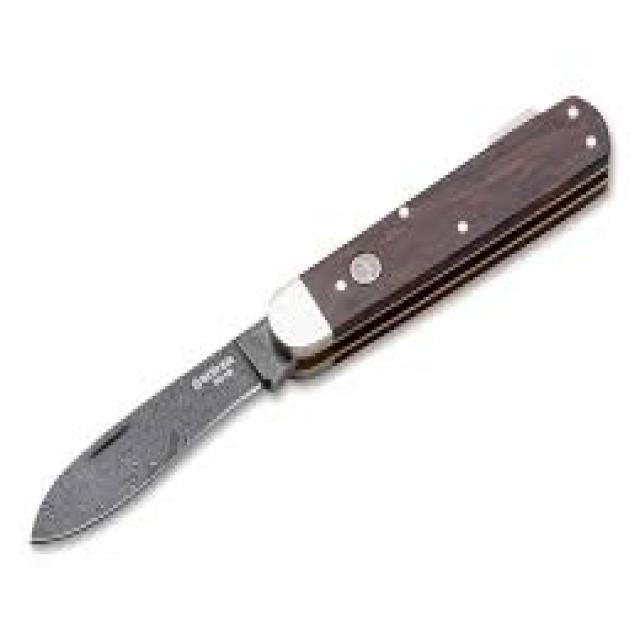knife: (23, 66, 620, 575)
